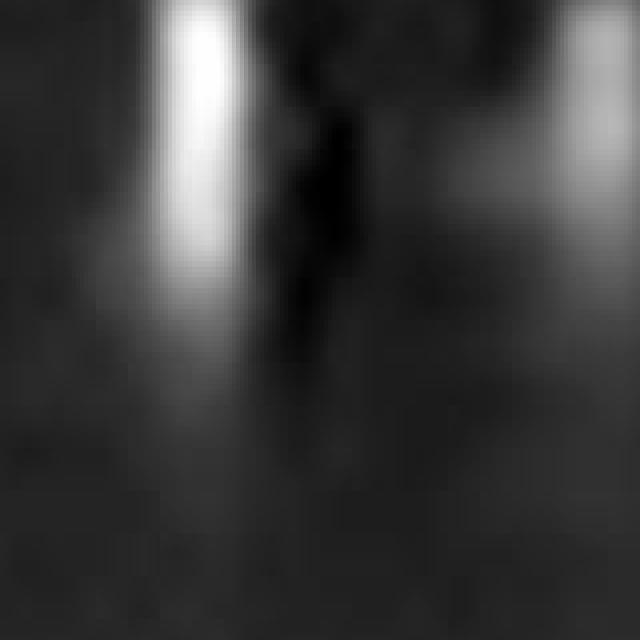person: (453, 1, 640, 380), (113, 1, 297, 385)
